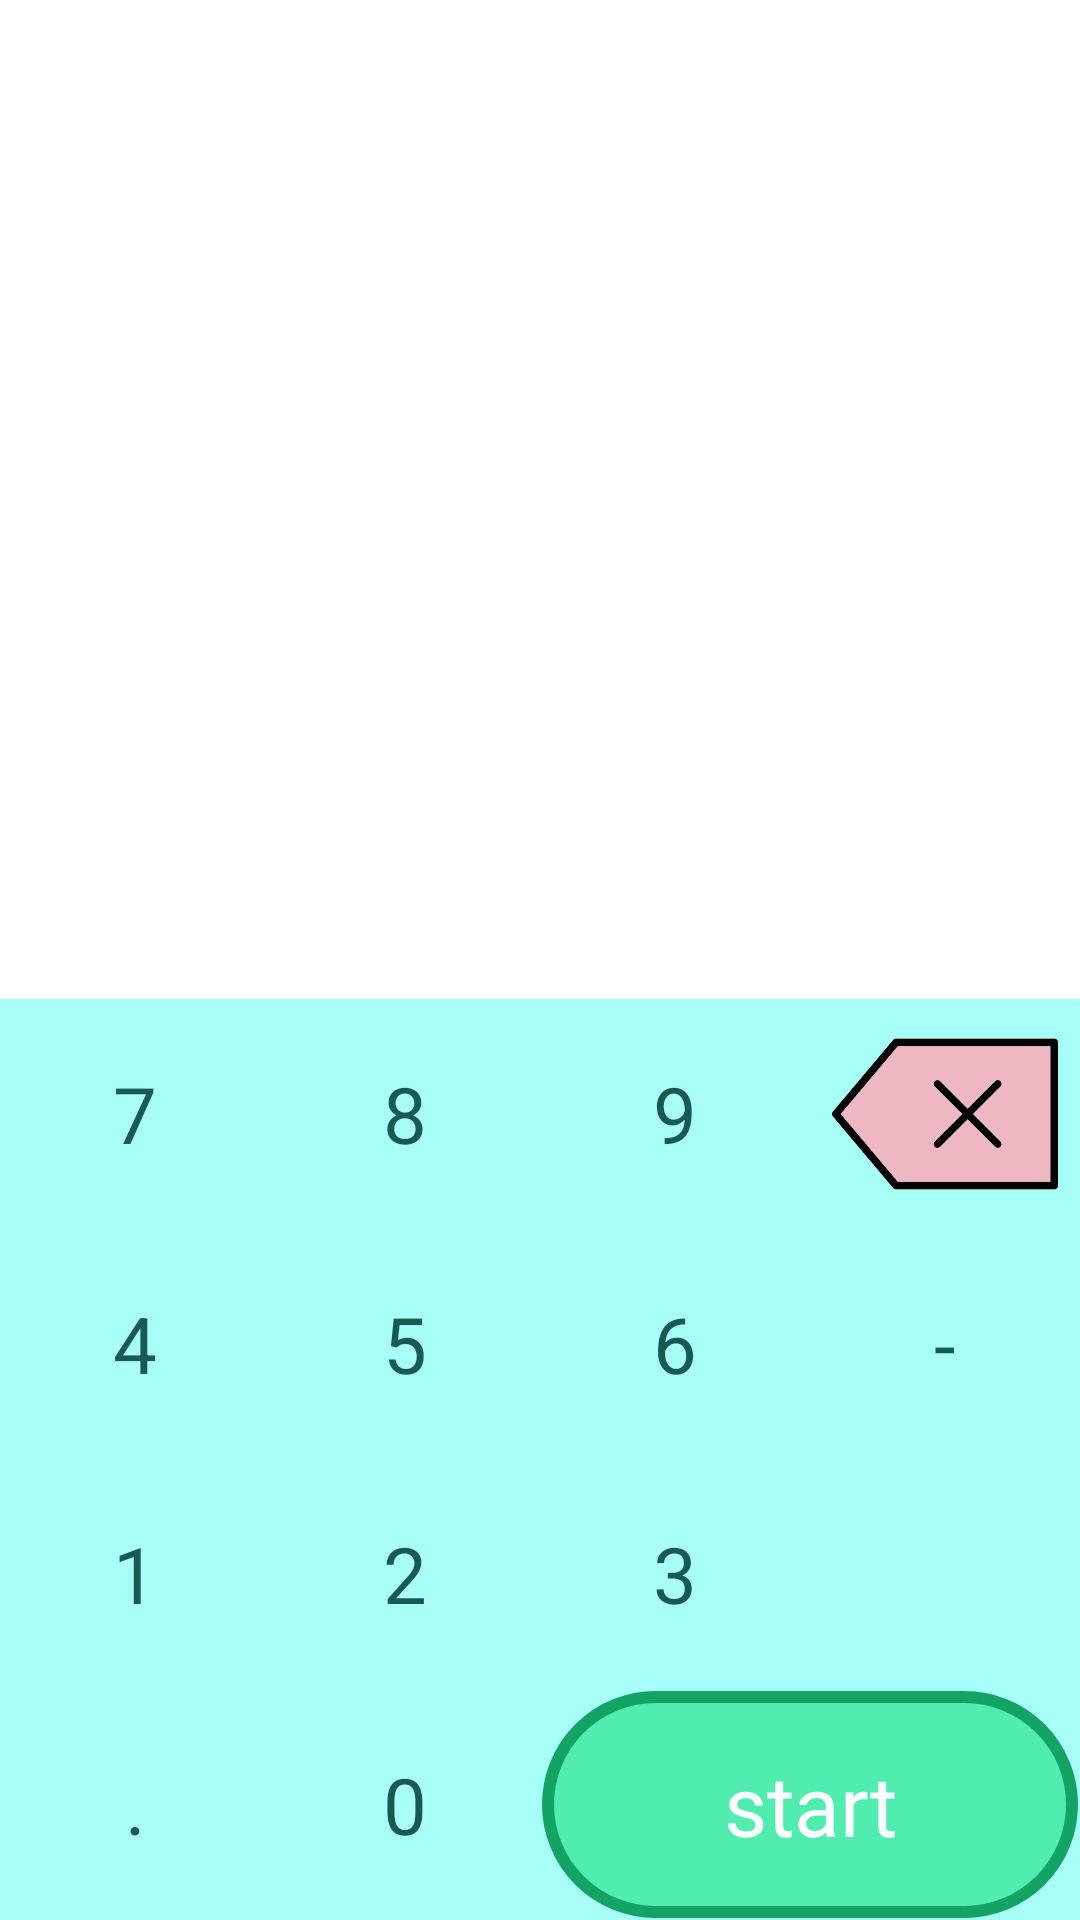

Icons on this 1080*1920 Android screen, each with its box as (x1, y1, x2, y2):
backspace: (832, 1038, 1058, 1190)
